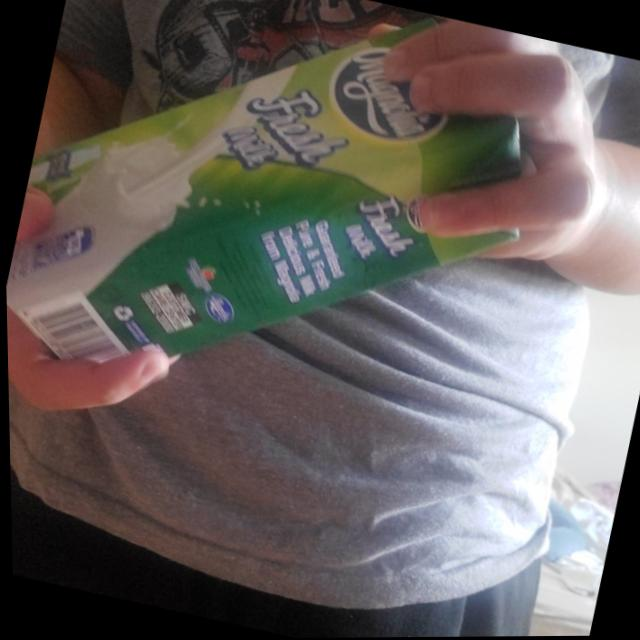milk: (0, 0, 566, 471)
